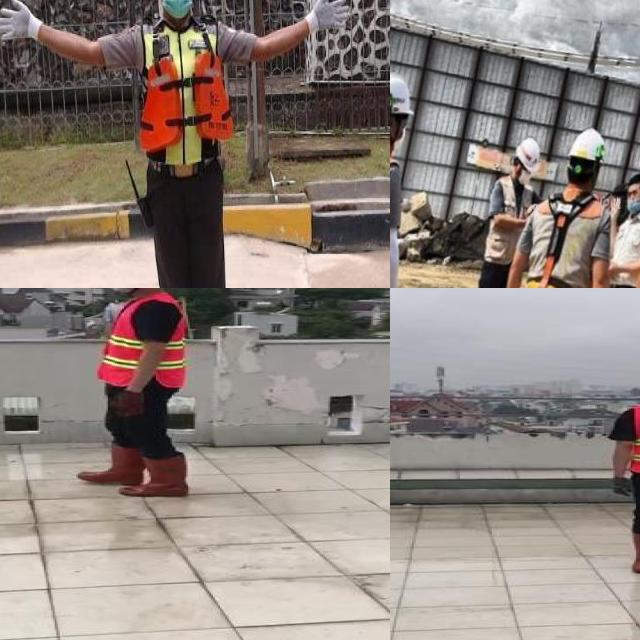Harness: (527, 194, 595, 288)
boots: (122, 456, 194, 497), (80, 446, 146, 484), (630, 530, 640, 574)
hand_glove: (110, 390, 145, 419), (610, 475, 632, 497)
person: (0, 0, 371, 288), (70, 288, 202, 500), (600, 360, 640, 575)
vest: (137, 19, 237, 167), (101, 300, 191, 387)
